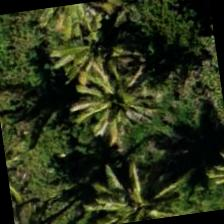Kelapa_Sawit: (65, 46, 167, 148), (93, 156, 192, 223)
